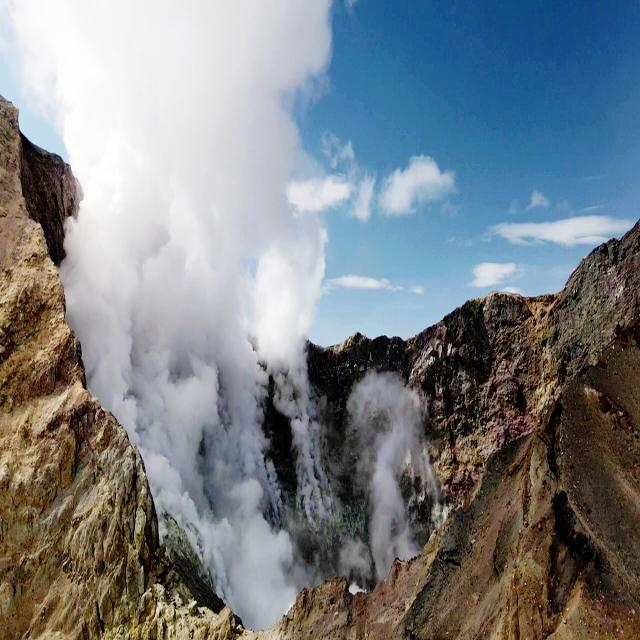asap: (46, 1, 333, 629), (50, 125, 183, 499), (247, 179, 341, 546), (340, 368, 438, 593), (140, 288, 216, 575)
